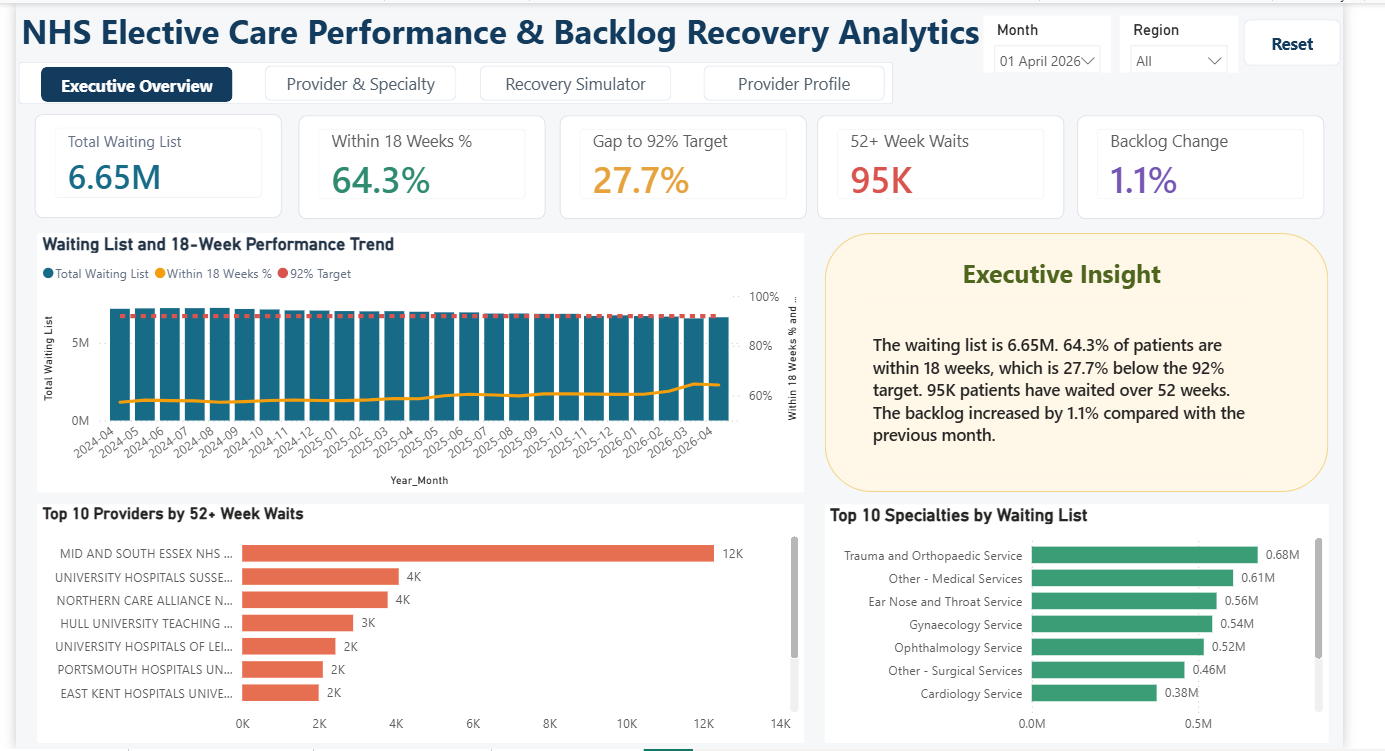

The dashboard page shown, as its layout file describes it:
{"tool":"powerbi","page":{"name":"Executive Overview","canvas":[1280,720],"ordinal":0},"visuals":[{"type":"shape","box":[780,222,486,250],"z":0},{"type":"shape","box":[3,57,844,41],"z":1000},{"type":"textbox","box":[0,0,941,53],"z":2000},{"type":"actionButton","box":[24,62,185,34],"z":3000},{"type":"actionButton","box":[240,60,185,34],"z":4000},{"type":"actionButton","box":[448,60,185,34],"z":5000},{"type":"actionButton","box":[663,60,175,34],"z":6000},{"type":"slicer","fields":{"Values":["Dim_Date.Reporting_Month"]},"box":[934,12,123,55],"z":7000},{"type":"slicer","fields":{"Values":["Dim_Provider.Region_Code"]},"box":[1065,12,114,55],"z":8000},{"type":"actionButton","box":[1185,16,94,45],"z":9000},{"type":"cardVisual","fields":{"Data":["_Measures.Total Waiting List"]},"box":[18,107,238,100],"z":10000},{"type":"cardVisual","fields":{"Data":["_Measures.Within 18 Weeks %"]},"box":[273,108,238,100],"z":11000},{"type":"cardVisual","fields":{"Data":["_Measures.Gap to 92% Target"]},"box":[525,108,238,100],"z":12000},{"type":"cardVisual","fields":{"Data":["_Measures.52+ Week Waits"]},"box":[773,108,238,100],"z":13000},{"type":"cardVisual","fields":{"Data":["_Measures.Monthly Backlog Change %"]},"box":[1024,108,238,100],"z":14000},{"type":"lineClusteredColumnComboChart","title":"Waiting List and 18-Week Performance Trend","fields":{"Category":["Dim_Date.Year_Month"],"Y":["_Measures.Total Waiting List"],"Y2":["_Measures.Within 18 Weeks %","_Measures.92% Target"]},"box":[20,222,740,250],"z":15000},{"type":"textbox","title":"Executive Insight","box":[908,245,205,32],"z":16000},{"type":"cardVisual","fields":{"Data":["_Measures.Executive Insight"]},"box":[800,272,416,200],"z":17000},{"type":"clusteredBarChart","title":"Top 10 Providers by 52+ Week Waits","fields":{"Category":["Dim_Provider.Provider_Name"],"Y":["_Measures.52+ Week Waits"]},"box":[20,484,740,230],"z":18000},{"type":"clusteredBarChart","title":"Top 10 Specialties by Waiting List","fields":{"Y":["_Measures.Specialty Waiting List"],"Category":["Dim_Specialty.Treatment_Function"]},"box":[780,484,486,230],"z":19000}]}

Visuals, with their boxes on the page's 1280x720 design canvas (x1, y1, x2, y2). These are canvas units, not pixel positions in the 1385x751 screenshot, which may show the page scaled, cropped or inside an application window:
shape: [x1=780, y1=222, x2=1266, y2=472]
shape: [x1=3, y1=57, x2=847, y2=98]
textbox: [x1=0, y1=0, x2=941, y2=53]
actionButton: [x1=24, y1=62, x2=209, y2=96]
actionButton: [x1=240, y1=60, x2=425, y2=94]
actionButton: [x1=448, y1=60, x2=633, y2=94]
actionButton: [x1=663, y1=60, x2=838, y2=94]
slicer - Dim_Date.Reporting_Month: [x1=934, y1=12, x2=1057, y2=67]
slicer - Dim_Provider.Region_Code: [x1=1065, y1=12, x2=1179, y2=67]
actionButton: [x1=1185, y1=16, x2=1279, y2=61]
cardVisual - _Measures.Total Waiting List: [x1=18, y1=107, x2=256, y2=207]
cardVisual - _Measures.Within 18 Weeks %: [x1=273, y1=108, x2=511, y2=208]
cardVisual - _Measures.Gap to 92% Target: [x1=525, y1=108, x2=763, y2=208]
cardVisual - _Measures.52+ Week Waits: [x1=773, y1=108, x2=1011, y2=208]
cardVisual - _Measures.Monthly Backlog Change %: [x1=1024, y1=108, x2=1262, y2=208]
"Waiting List and 18-Week Performance Trend" lineClusteredColumnComboChart: [x1=20, y1=222, x2=760, y2=472]
"Executive Insight" textbox: [x1=908, y1=245, x2=1113, y2=277]
cardVisual - _Measures.Executive Insight: [x1=800, y1=272, x2=1216, y2=472]
"Top 10 Providers by 52+ Week Waits" clusteredBarChart: [x1=20, y1=484, x2=760, y2=714]
"Top 10 Specialties by Waiting List" clusteredBarChart: [x1=780, y1=484, x2=1266, y2=714]
